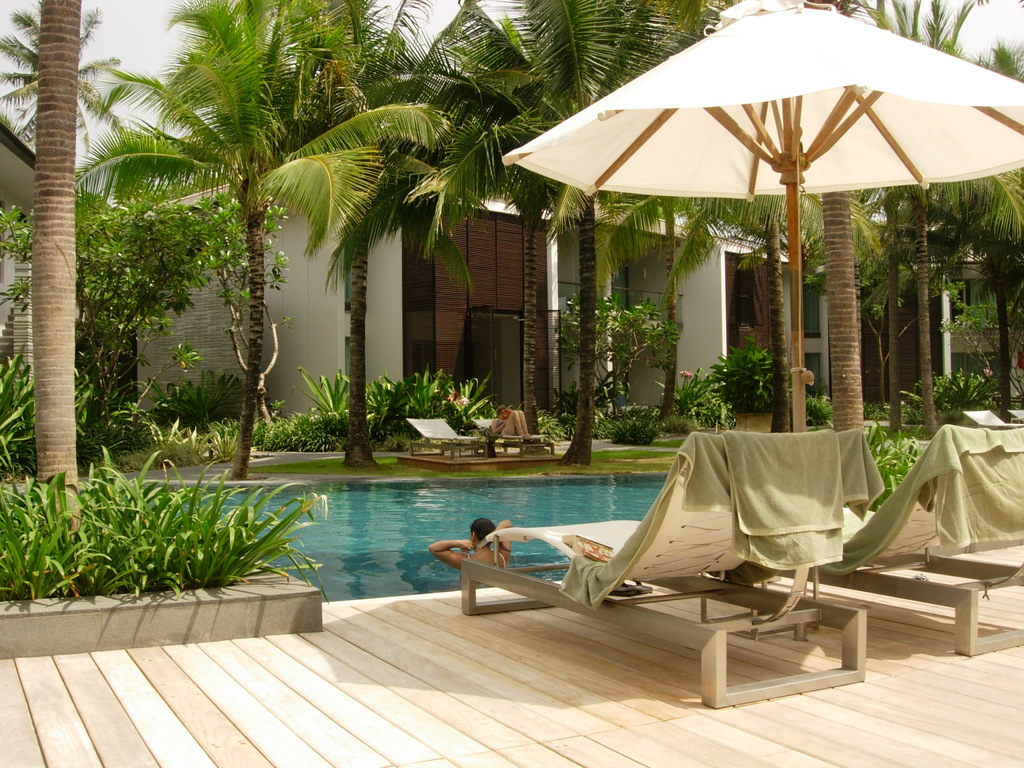Person: (427, 517, 512, 583)
